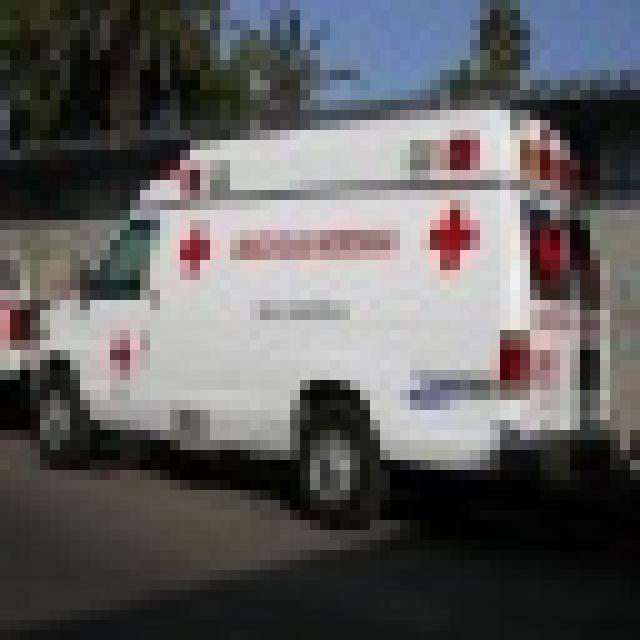Ambulance: (20, 100, 610, 520)
